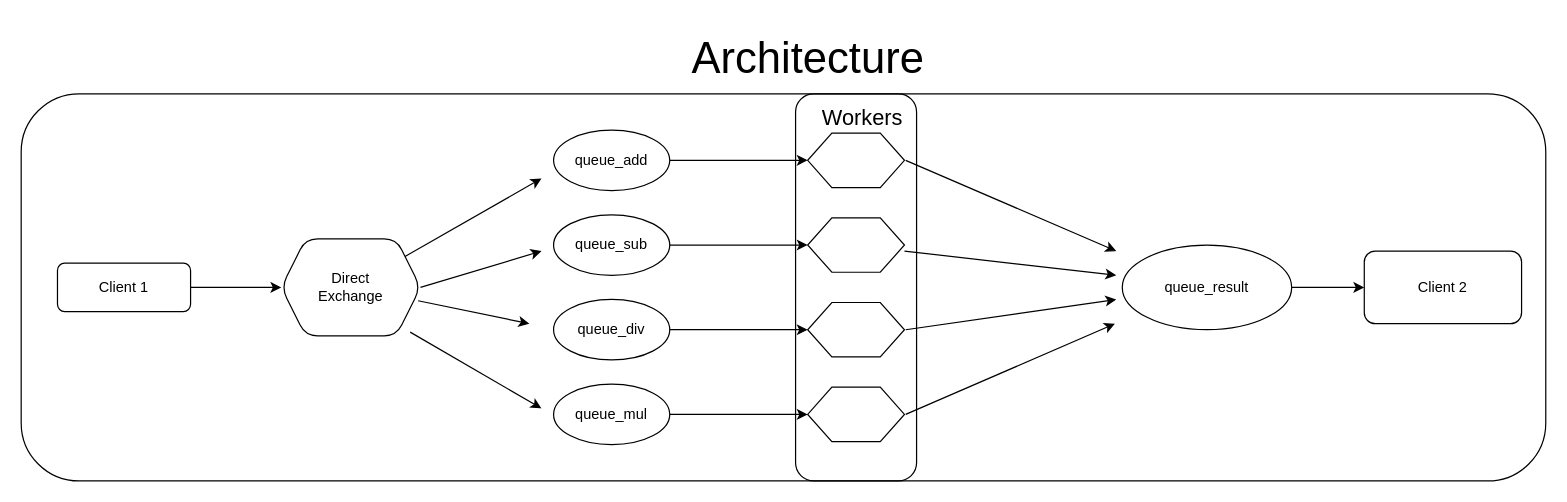
This 1567x502 diagram has some shape labels left out. Here are the shapes that lost their labels. From the top down, the box of each, then its label:
(806, 132, 904, 188): add
(806, 217, 904, 272): sub
(806, 301, 904, 357): div
(806, 386, 904, 442): mul
